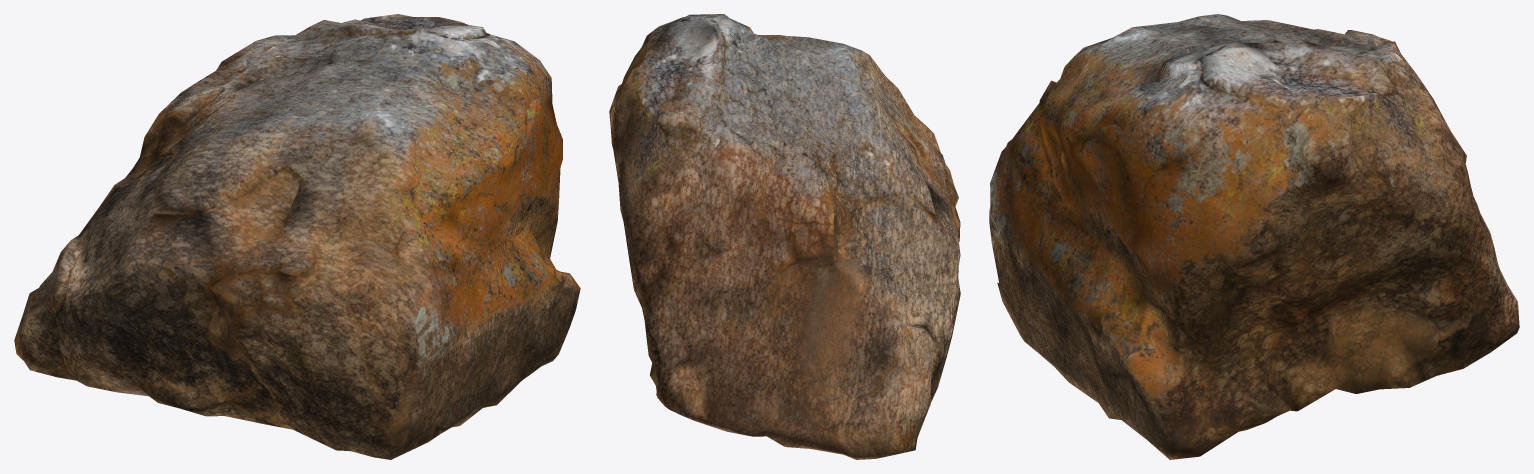
The model's file is namaqualand_boulder_04.glb.
3 views of the same model, side by side, from view 1: azimuth 30°, elevation 25°; view 2: azimuth 150°, elevation 25°; view 3: azimuth 270°, elevation 25° (orthographic). The views are drawn at different scales.
Visible parts, largest first — view 1: boulder_04; view 2: boulder_04; view 3: boulder_04.
Boxes of the visible parts, bbox=[...] form: boulder_04: bbox=[14, 14, 580, 459]; boulder_04: bbox=[609, 14, 960, 459]; boulder_04: bbox=[989, 14, 1519, 459].
Size of the model in its own units: 2.52 by 1.89 by 2.48.
1 material, 1 textured.
